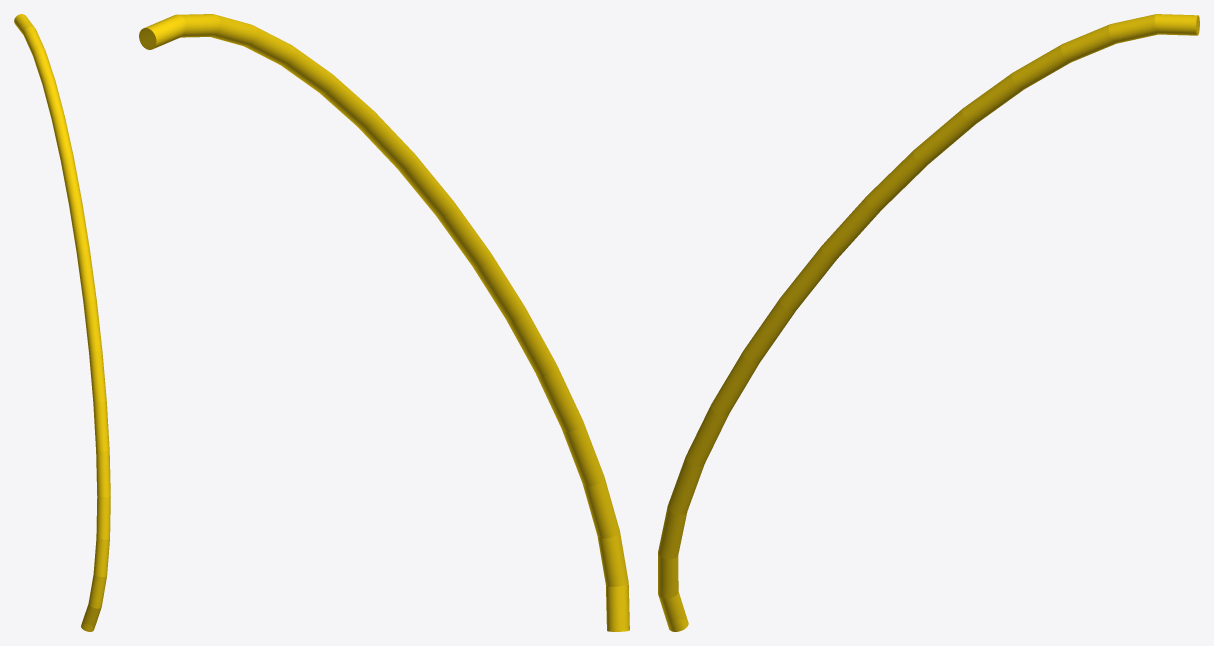
The model's file is Event_421127236_track_59.fbx.
The picture shows the model from 3 angles, left to right: view 1: azimuth 30°, elevation 25°; view 2: azimuth 150°, elevation 25°; view 3: azimuth 270°, elevation 25°; orthographic projection. The views are drawn at different scales.
Visible parts, largest first — view 1: Model; view 2: Model; view 3: Model.
Boxes of the visible parts, x1,y1,x2,y2 form: Model: (14,14,110,631); Model: (139,14,629,631); Model: (658,14,1199,631).
Size of the model in its own units: 0.3989 by 1.48 by 1.06.
